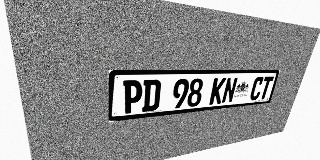8: (186, 78, 205, 107)
9: (171, 79, 190, 109)
C: (249, 77, 265, 101)
D: (142, 79, 162, 112)
K: (209, 78, 226, 105)
N: (221, 77, 238, 104)
P: (122, 80, 143, 114)
T: (258, 76, 274, 100)
